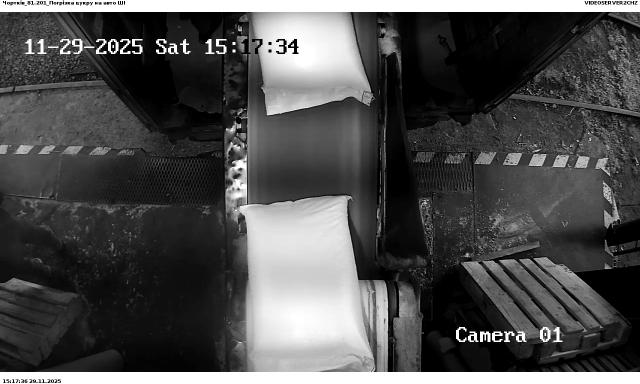bag: (237, 196, 379, 372), (252, 12, 375, 115)
